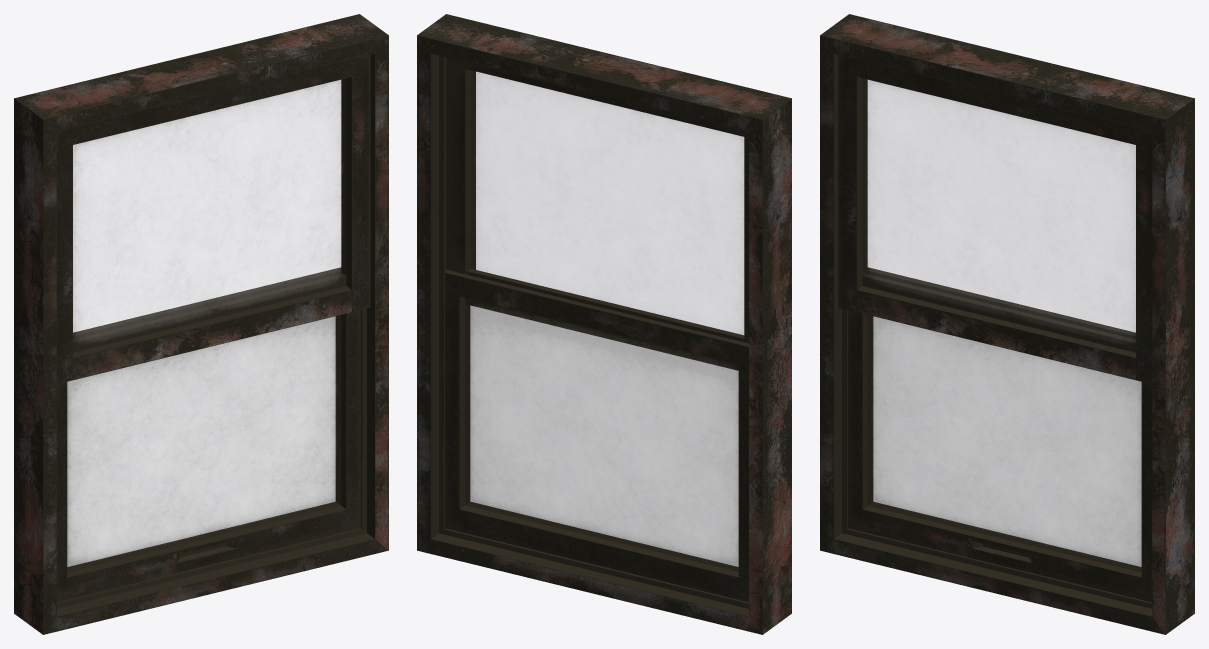
File: window.glb
3 renders of one model, left to right at view 1: azimuth 30°, elevation 25°; view 2: azimuth 150°, elevation 25°; view 3: azimuth 330°, elevation 25°, orthographic.
Visible parts, largest first — view 1: up, dow, f; view 2: dow, up, f; view 3: up, dow, f.
Part boxes in pixels (<box>): up: <box>57,55,370,383</box>; dow: <box>57,267,360,602</box>; f: <box>14,14,388,634</box>; dow: <box>445,268,748,602</box>; up: <box>446,57,748,370</box>; f: <box>417,14,791,634</box>; up: <box>838,55,1151,383</box>; dow: <box>848,267,1151,602</box>; f: <box>820,14,1194,634</box>.
Bounding box in the file's own units: 1.8 × 2.56 × 0.2633.
Materials: 2 (2 with a texture image).
